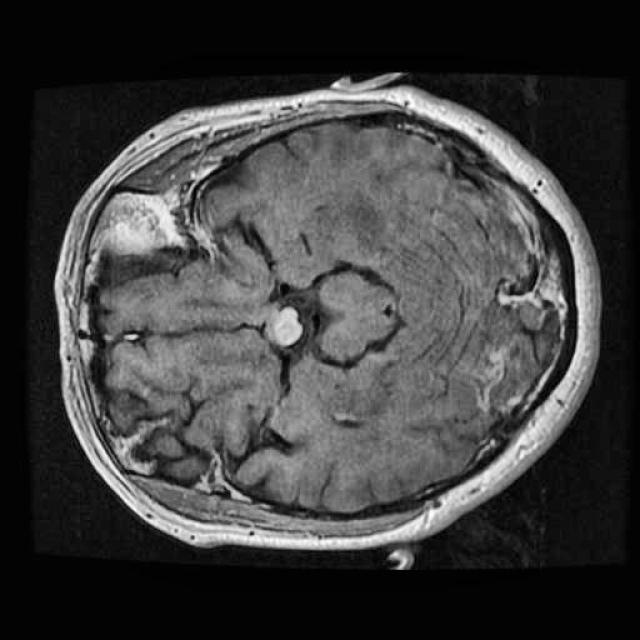Tumor: (256, 296, 315, 355)
